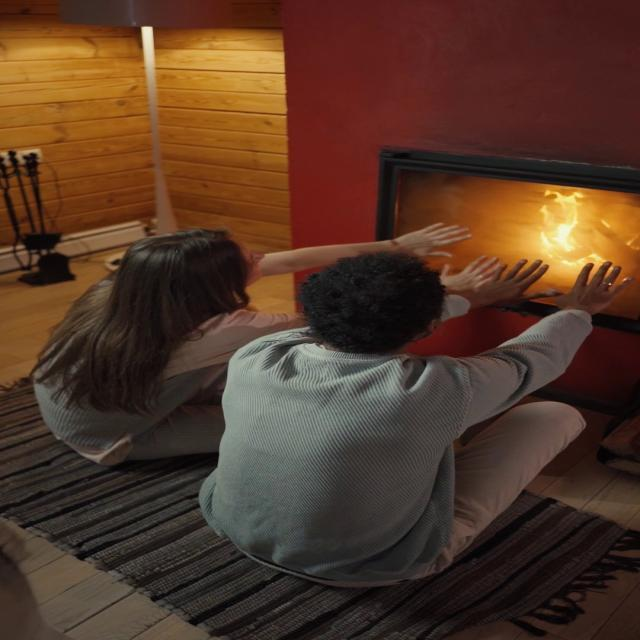Fire: (528, 186, 622, 274)
